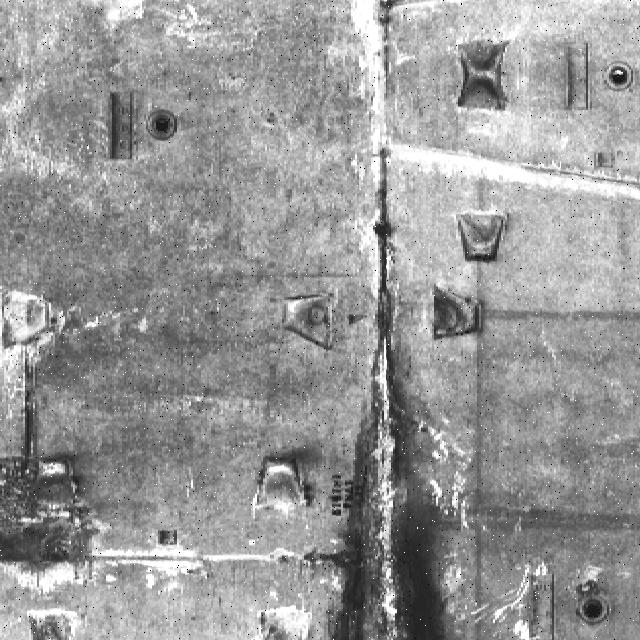leakage: (321, 218, 456, 640), (1, 348, 109, 597)
